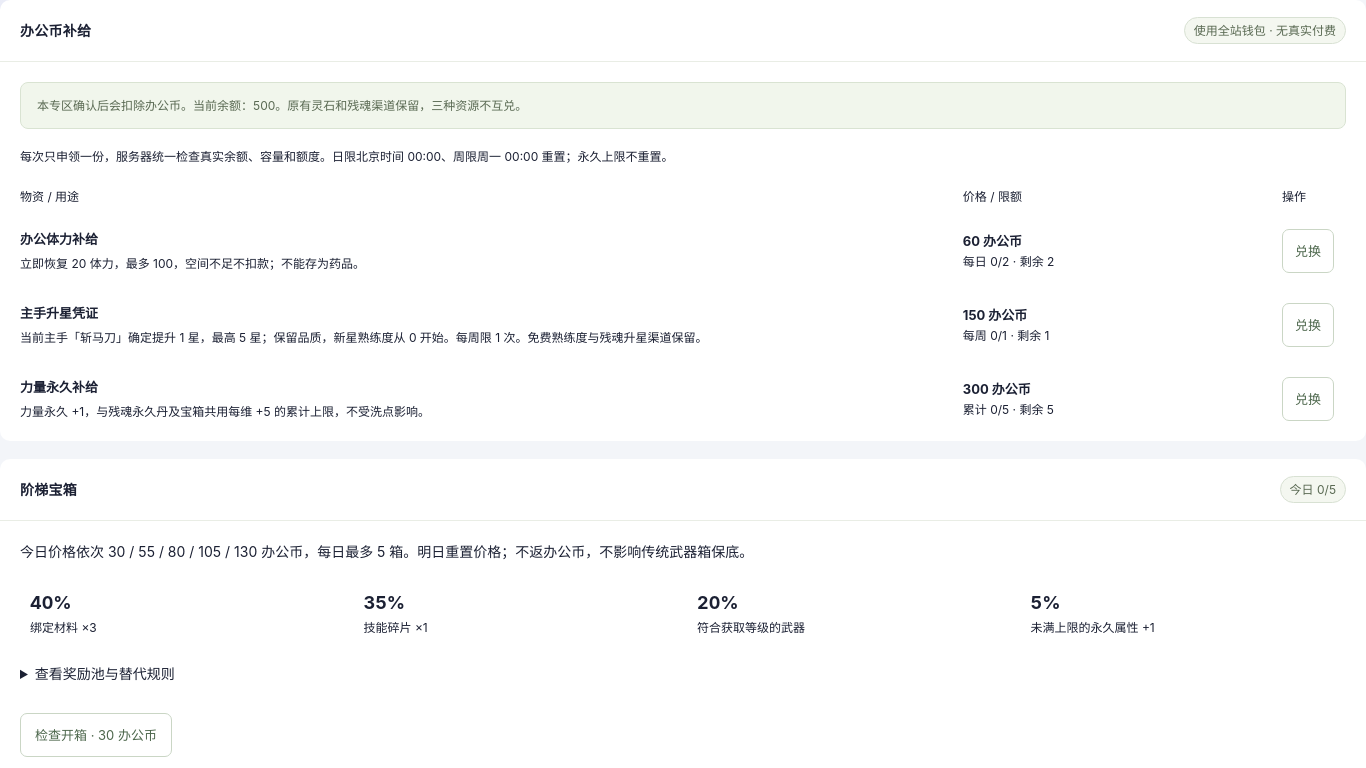
Demon tower explicit office-coin supplies › requires explicit consent and sends no client price, wallet, user, reward or quantity
Click the button with aria-label "兑换办公体力补给": point(1308, 251) [1282,229,1334,273]
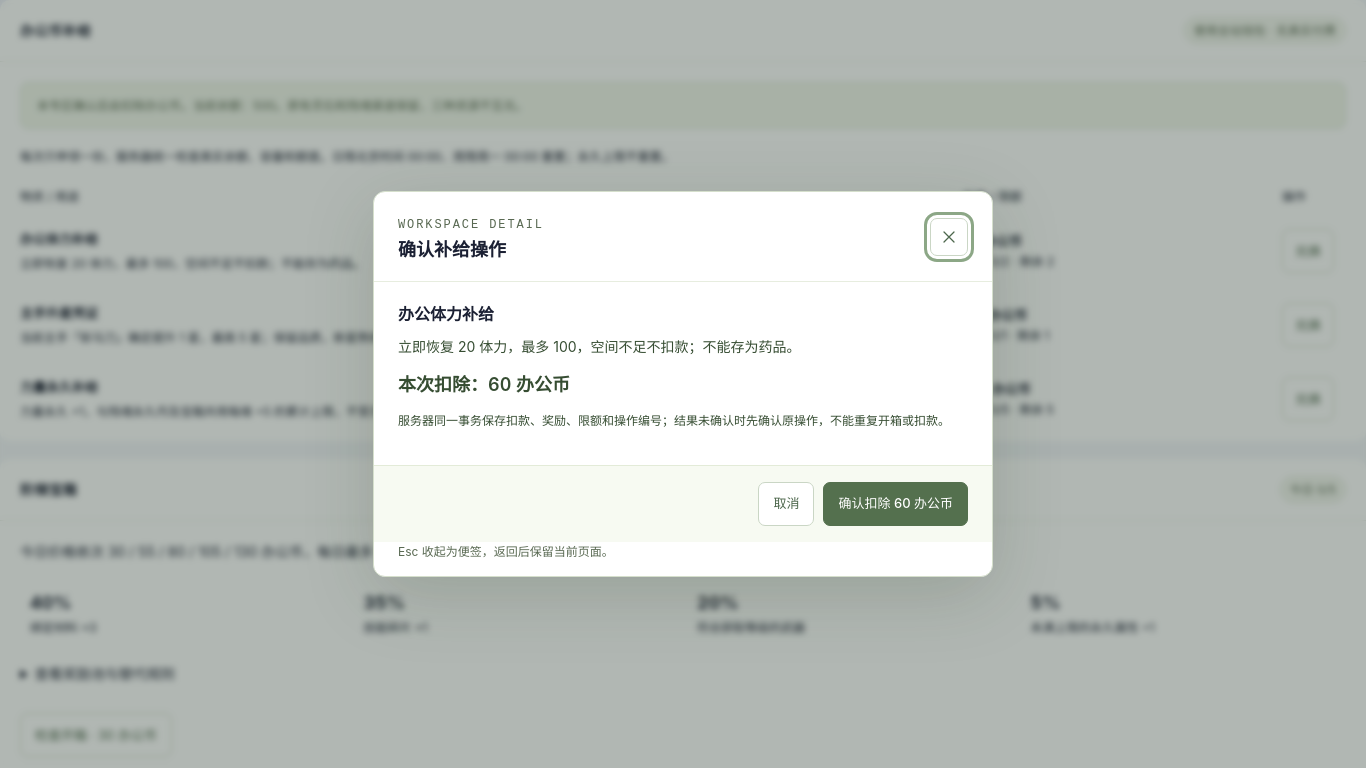
Result: the text "本次扣除：60 办公币" is shown at [398,374,570,394]
Click the button "确认扣除 60 办公币": point(896, 504) [824,482,968,526]
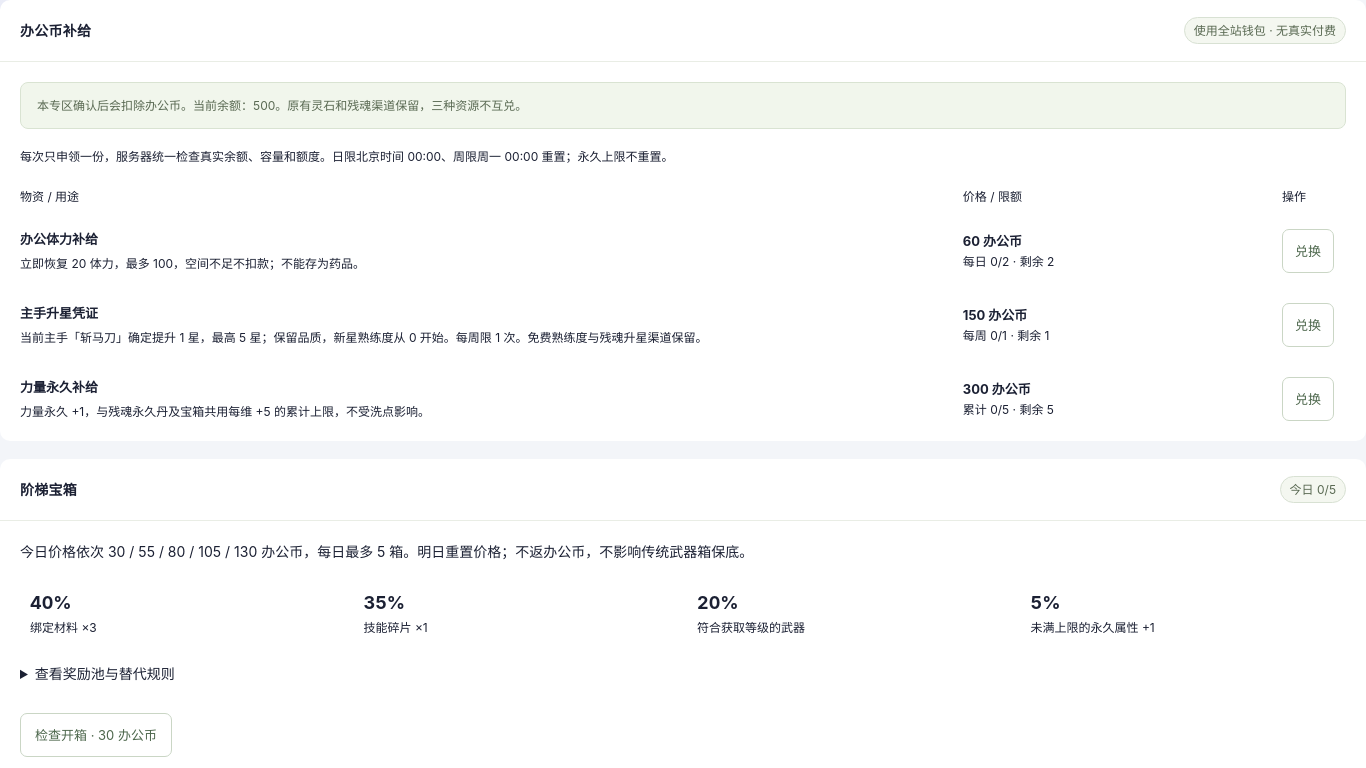
Result: the dialog is gone
